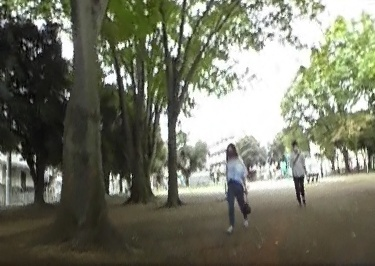person: (221, 141, 251, 230), (287, 139, 310, 205)
